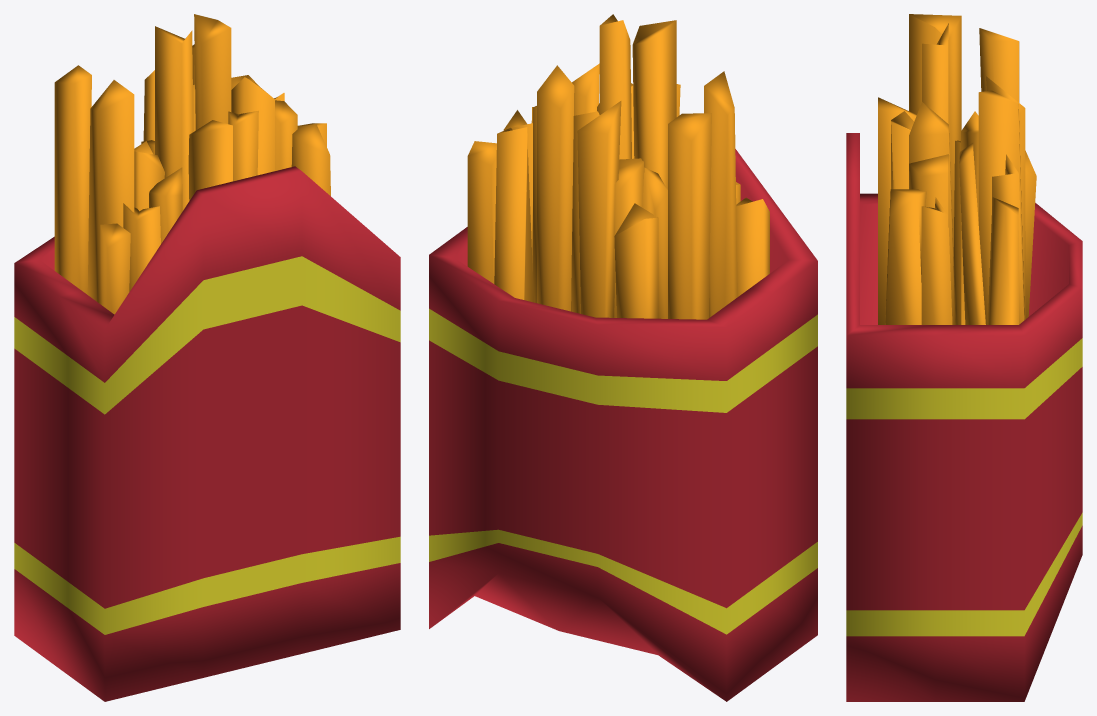
The model's file is Free.fbx.
The picture shows the model from 3 angles, left to right: view 1: azimuth 30°, elevation 25°; view 2: azimuth 150°, elevation 25°; view 3: azimuth 270°, elevation 25°; orthographic projection. The views are drawn at different scales.
Visible parts, largest first — view 1: Free; view 2: Free; view 3: Free.
Part boxes in pixels (x1,y1,x2,y2): Free: (14,14,400,701); Free: (429,14,817,701); Free: (846,14,1082,701).
Bounding box in the file's own units: 22.33 × 44.38 × 15.7.
